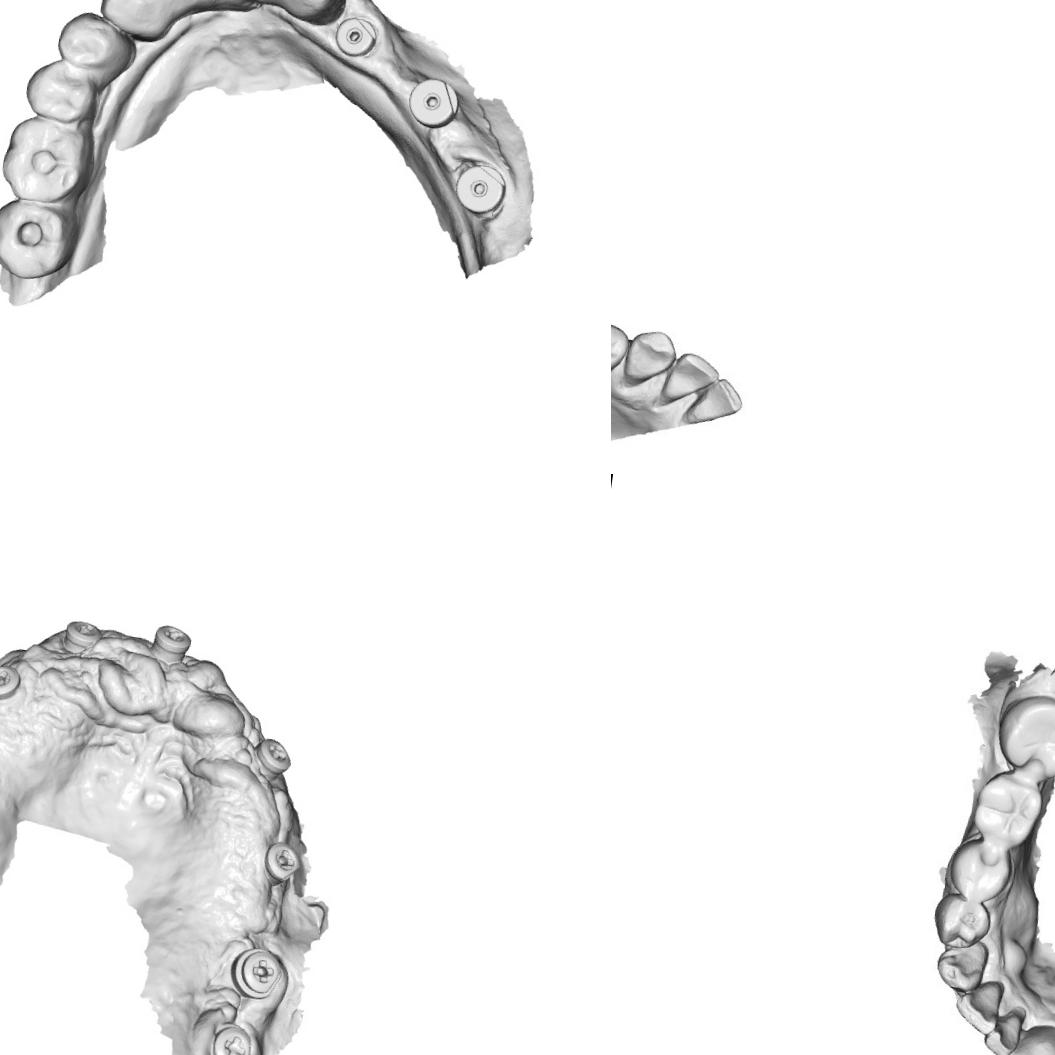canine: (619, 321, 676, 390), (95, 0, 169, 42), (934, 938, 985, 996), (279, 0, 350, 29)
implant: (456, 161, 511, 222), (409, 74, 460, 132), (334, 15, 377, 60)
implant_plus: (227, 944, 287, 1002), (148, 619, 196, 665), (250, 732, 296, 776), (206, 1020, 259, 1055), (261, 839, 302, 883), (63, 614, 105, 651), (0, 659, 23, 704)
incisor: (682, 372, 748, 431), (660, 352, 716, 408), (952, 980, 998, 1030), (982, 1003, 1026, 1055), (1001, 1025, 1043, 1055)
molar: (0, 113, 97, 209), (0, 196, 80, 287), (968, 768, 1048, 851), (992, 690, 1055, 780), (943, 836, 1016, 907)
premolar: (52, 5, 142, 80), (17, 52, 98, 128), (924, 892, 993, 950), (611, 321, 632, 375)
